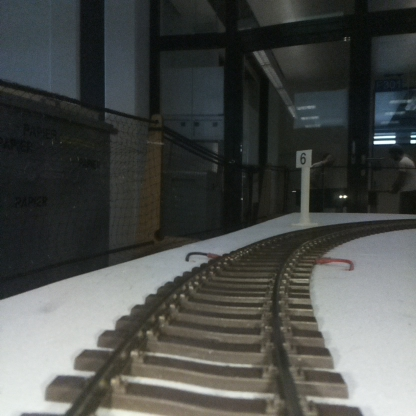white-info-6: (295, 149, 311, 228)
